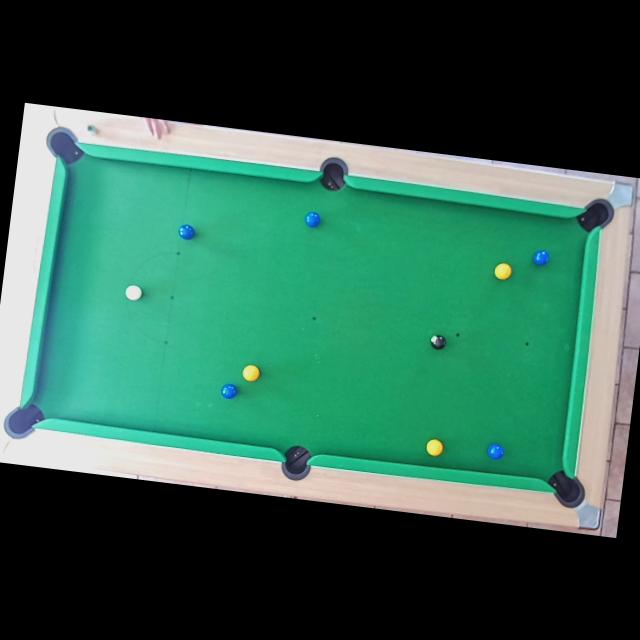Ball: (240, 362, 260, 382), (492, 260, 512, 280), (424, 437, 444, 457), (486, 442, 506, 460), (219, 382, 238, 400), (531, 248, 550, 266), (302, 209, 320, 227), (430, 333, 448, 350), (177, 223, 194, 240), (126, 284, 142, 302)
